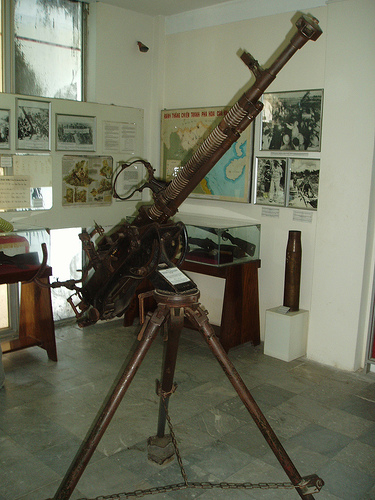rifle: (50, 13, 342, 478)
